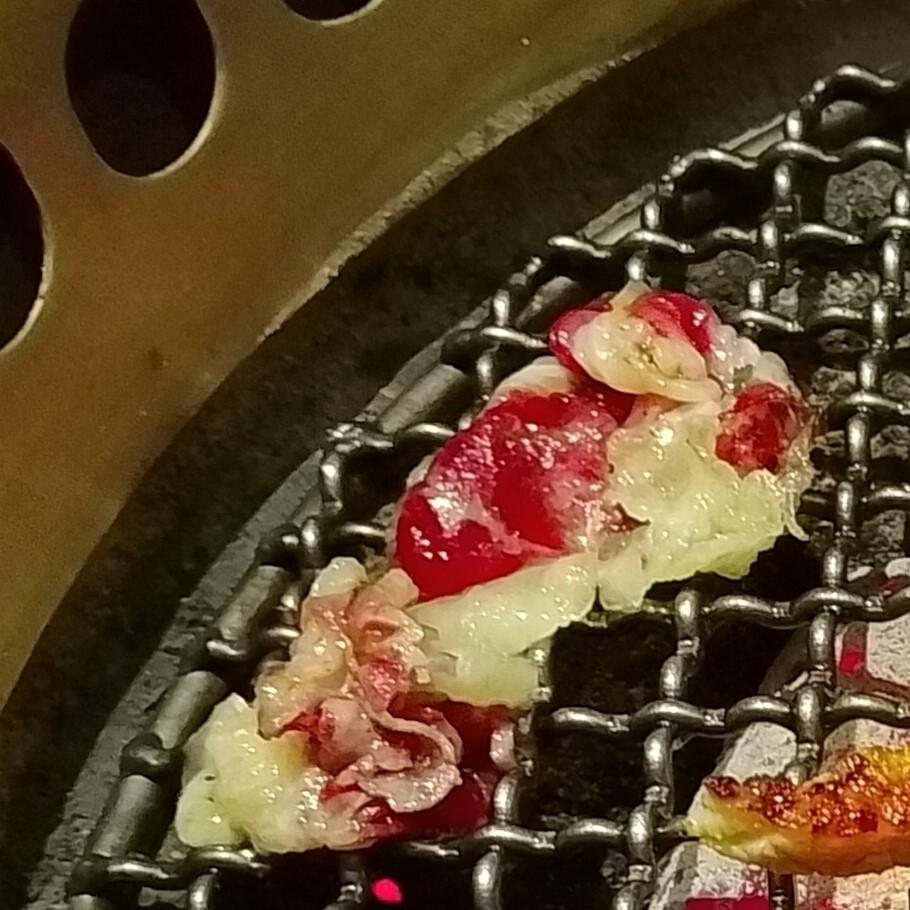Overcooked: (683, 731, 909, 876)
Undercooked: (173, 284, 812, 868)
